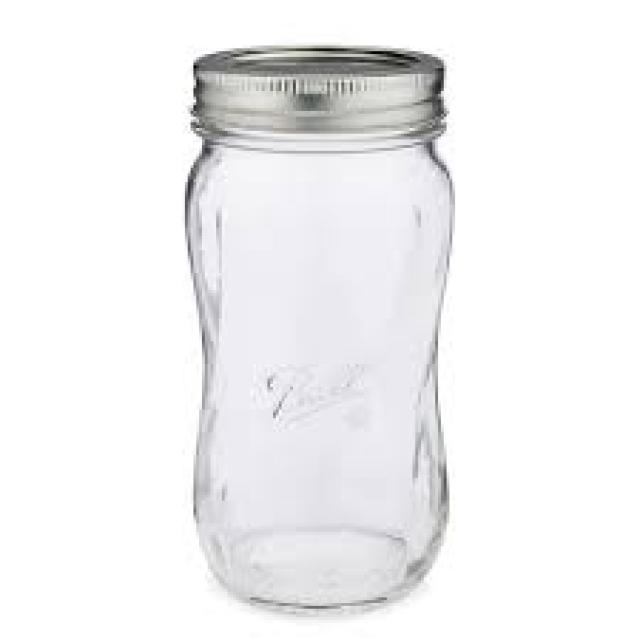glass: (182, 114, 452, 612)
metal: (191, 43, 444, 131)
